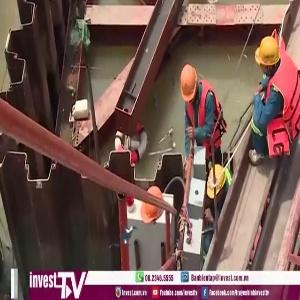drone: (99, 209, 155, 265)
